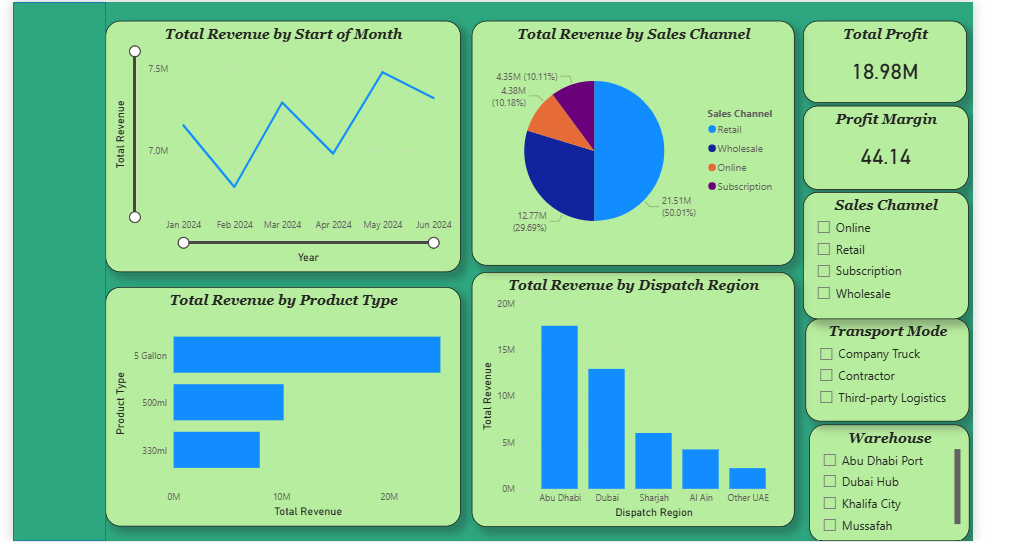

What the dashboard file says about the page in this screenshot:
{"tool":"powerbi","page":{"name":"Sales Overview","canvas":[1280,720],"ordinal":2},"visuals":[{"type":"card","title":"Total Profit","fields":{"Values":["Measure.Total profit"]},"box":[1054,24.5,218.4,109.2],"z":0},{"type":"card","title":"Profit Margin","fields":{"Values":["Measure.Profit margin%"]},"box":[1054,138.7,220.9,111.7],"z":1000},{"type":"slicer","title":"Warehouse","fields":{"Values":["Rawda_procudtion_sales.Warehouse"]},"box":[1061.4,563.2,213.5,157.1],"z":2000},{"type":"slicer","title":"Transport Mode","fields":{"Values":["Rawda_procudtion_sales.Transport Mode"]},"box":[1056.4,422.1,218.4,137.4],"z":3000},{"type":"slicer","title":"Sales Channel","fields":{"Values":["Rawda_procudtion_sales.Sales Channel"]},"box":[1054,252.8,220.9,169.3],"z":4000},{"type":"barChart","fields":{"Category":["Rawda_procudtion_sales.Product Type"],"Y":["Measure.Total Revenue"]},"box":[123.9,380.4,473.6,319],"z":5000},{"type":"lineChart","title":"Total Revenue by Start of Month","fields":{"Y":["Measure.Total Revenue"],"Category":["Rawda_procudtion_sales.Date.Variation.Date Hierarchy.Year","Rawda_procudtion_sales.Date.Variation.Date Hierarchy.Month"]},"box":[123.9,24.5,473.6,335],"z":6000},{"type":"columnChart","fields":{"Category":["Rawda_procudtion_sales.Dispatch Region"],"Y":["Measure.Total Revenue"]},"box":[611,359.5,430.7,339.9],"z":7000},{"type":"pieChart","fields":{"Y":["Measure.Total Revenue"],"Category":["Rawda_procudtion_sales.Sales Channel"]},"box":[611,24.5,430.7,326.4],"z":8000},{"type":"shape","box":[0,0,123.9,720.2],"z":9000},{"type":"image","box":[0,625.7,121.4,94.3],"z":10000},{"type":"image","box":[0,512.9,124.3,92.9],"z":11000},{"type":"image","box":[10,252.9,105.7,130],"z":12000},{"type":"image","box":[0,390,118.6,101.4],"z":13000},{"type":"image","box":[2.9,104.3,121.4,157.1],"z":14000},{"type":"image","box":[1.4,0,124.3,104.3],"z":15000}]}

Visuals, with their boxes in screenshot pixels (x1, y1, x2, y2):
"Total Profit" card: [794, 21, 956, 102]
"Profit Margin" card: [794, 106, 958, 189]
"Warehouse" slicer: [799, 421, 958, 538]
"Transport Mode" slicer: [795, 316, 958, 418]
"Sales Channel" slicer: [794, 190, 958, 316]
barChart - Rawda_procudtion_sales.Product Type x Measure.Total Revenue: [103, 285, 454, 522]
"Total Revenue by Start of Month" lineChart: [103, 21, 454, 270]
columnChart - Rawda_procudtion_sales.Dispatch Region x Measure.Total Revenue: [464, 270, 784, 522]
pieChart - Measure.Total Revenue x Rawda_procudtion_sales.Sales Channel: [464, 21, 784, 263]
shape: [11, 3, 103, 538]
image: [11, 467, 101, 538]
image: [11, 384, 103, 453]
image: [18, 191, 97, 287]
image: [11, 292, 99, 368]
image: [13, 80, 103, 197]
image: [12, 3, 104, 80]
